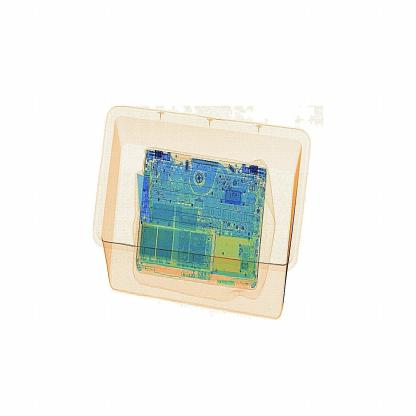pliers: (127, 160, 163, 242)
